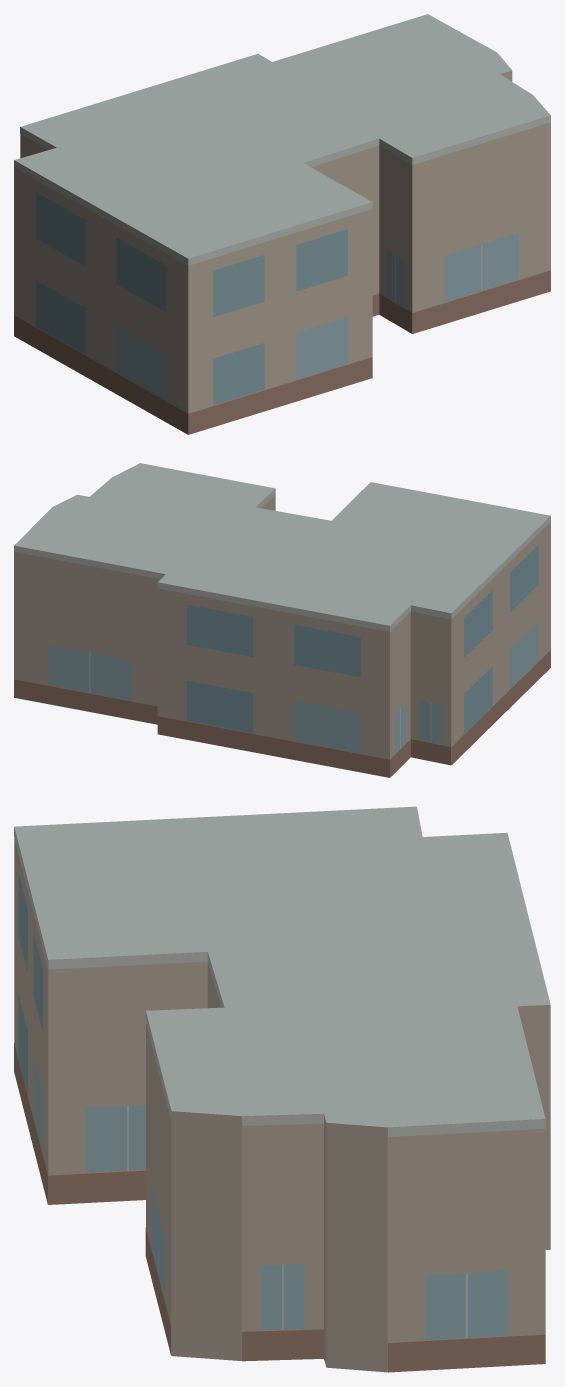
File: survey-upis-32531828.glb
The picture shows the model from 3 angles, top to bottom: view 1: azimuth 30°, elevation 25°; view 2: azimuth 150°, elevation 25°; view 3: azimuth 270°, elevation 25°; orthographic projection. The views are drawn at different scales.
Visible parts, largest first — view 1: survey-upis-32531828.tmp; view 2: survey-upis-32531828.tmp; view 3: survey-upis-32531828.tmp.
Boxes of the visible parts, <box> form: survey-upis-32531828.tmp: <box>14,14,550,434</box>; survey-upis-32531828.tmp: <box>14,463,550,777</box>; survey-upis-32531828.tmp: <box>14,806,550,1372</box>.
Size of the model in its own units: 17.15 by 6.1 by 12.12.
